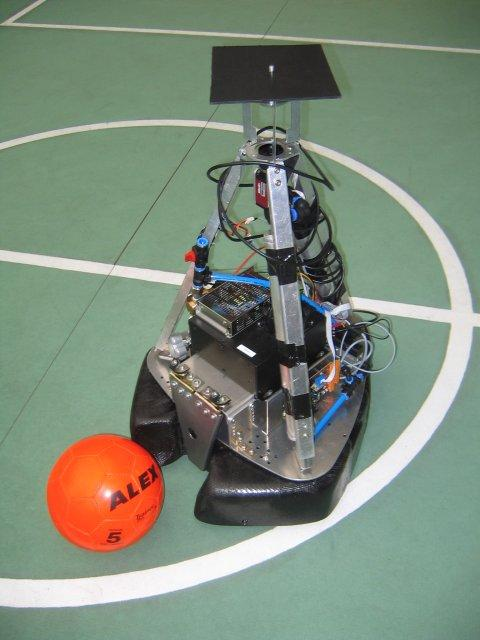robot: (128, 37, 387, 537)
